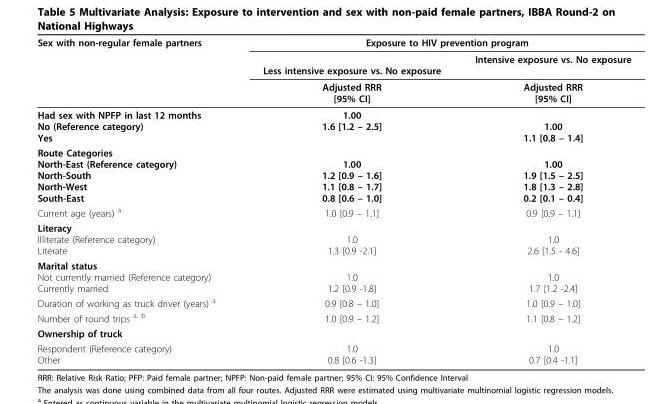table: (36, 36, 630, 365)
table column: (238, 36, 457, 365), (36, 36, 238, 365), (457, 36, 630, 365)
table column header: (36, 36, 630, 106)
table projected row header: (36, 325, 630, 340)
table row: (36, 144, 630, 204), (36, 106, 630, 144), (36, 220, 630, 257), (36, 257, 630, 294), (36, 50, 630, 78), (36, 78, 630, 106), (36, 340, 630, 365), (36, 204, 630, 220), (36, 309, 630, 325), (36, 294, 630, 309), (36, 325, 630, 340), (36, 36, 630, 50)
table spanning cell: (36, 36, 238, 106), (238, 50, 457, 106), (457, 50, 630, 106), (238, 36, 630, 50)
